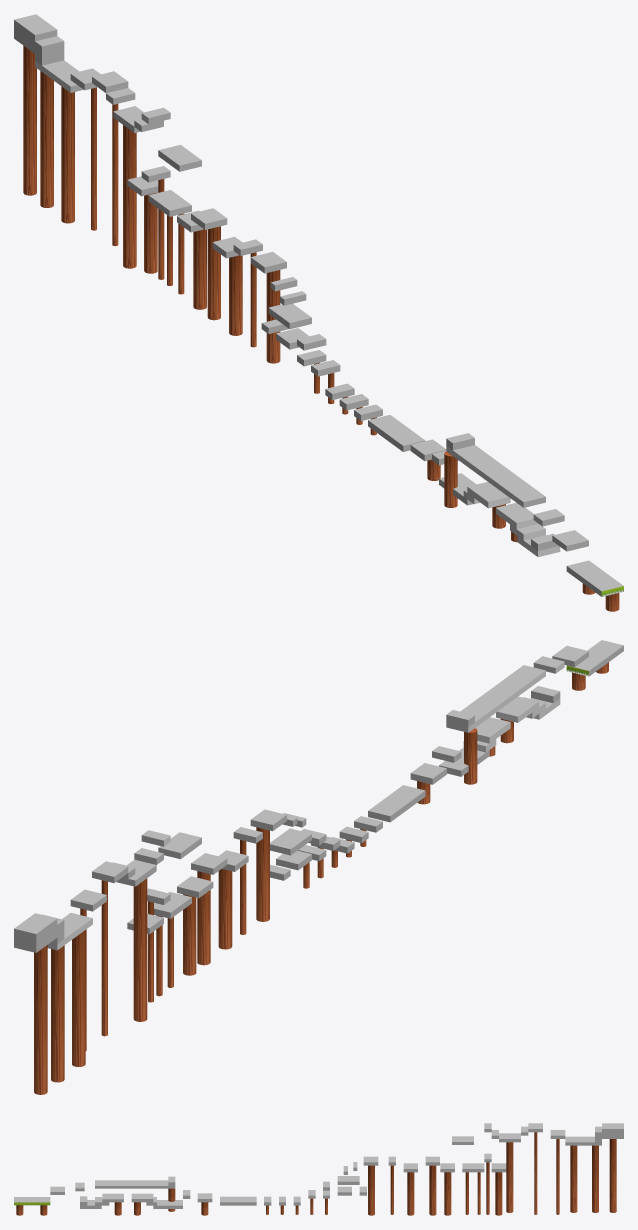
The model's file is fase01-2.fbx.
The picture shows the model from 3 angles, top to bottom: view 1: azimuth 30°, elevation 25°; view 2: azimuth 150°, elevation 25°; view 3: azimuth 270°, elevation 25°; orthographic projection. The views are drawn at different scales.
Parts seen in each view (by area): view 1: Ground.011, colunas.026, colunas.024, colunas.021, colunas.025, colunas.015, Ground.045, colunas.014, colunas.016, Ground.015, Ground.044, colunas.020 (+3 smaller); view 2: colunas.021, Ground.011, colunas.026, colunas.025, colunas.024, Ground.044, colunas.012, colunas.014, Ground.015, colunas.015, colunas.022, colunas.016 (+7 smaller); view 3: Ground.011, colunas.026, colunas.021, colunas.024, colunas.025, colunas.015, Ground.015, colunas.012, Ground.044, colunas.020, colunas.014, colunas.016 (+18 smaller).
Boxes of the visible parts, x1,y1,x2,y2 form: Ground.011: (446,445,545,507); colunas.026: (23,45,36,195); colunas.024: (61,86,74,223); colunas.021: (123,125,136,268); colunas.025: (40,71,53,207); colunas.015: (207,226,220,320); Ground.045: (566,560,623,596); colunas.014: (229,255,242,335); colunas.016: (193,229,206,309); Ground.015: (368,415,425,451); Ground.044: (14,14,57,53); colunas.020: (144,192,157,273); colunas.021: (133,878,147,1021); Ground.011: (446,665,545,732); colunas.026: (34,945,47,1094); colunas.025: (51,945,64,1082); colunas.024: (72,930,85,1066); Ground.044: (14,913,57,952); colunas.012: (256,827,269,921); colunas.014: (218,869,232,949); Ground.015: (368,785,425,822); colunas.015: (197,871,210,965); colunas.022: (101,880,107,1036); colunas.016: (183,894,196,975); Ground.011: (95,1180,175,1188); colunas.026: (609,1139,616,1212); colunas.021: (506,1142,513,1212); colunas.024: (570,1145,577,1212); colunas.025: (592,1145,598,1212); colunas.015: (429,1165,436,1215); Ground.015: (220,1196,256,1205); colunas.012: (368,1165,374,1215); Ground.044: (602,1123,623,1138); colunas.020: (495,1172,502,1215); colunas.014: (407,1172,414,1215); colunas.016: (444,1172,451,1215).
Bounding box in the file's own units: 981 × 37326 × 5855.
